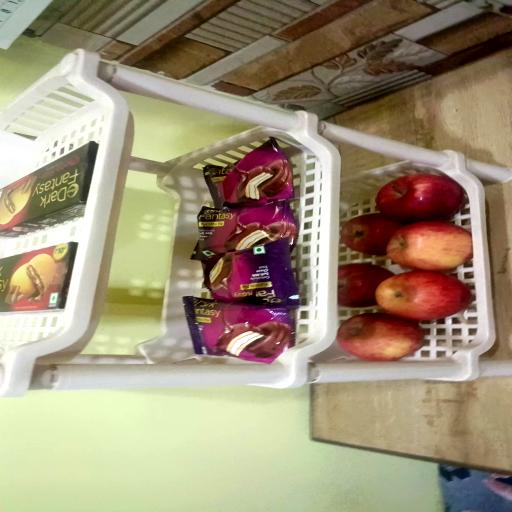Apple: (375, 272, 473, 322), (376, 176, 466, 226), (386, 223, 472, 273), (338, 315, 424, 362), (340, 216, 402, 256), (338, 265, 392, 308)
Choco Fills: (0, 144, 97, 234), (0, 244, 77, 312)
Choco Pie: (185, 298, 297, 363), (209, 140, 298, 207), (204, 248, 299, 308), (199, 202, 300, 253)
